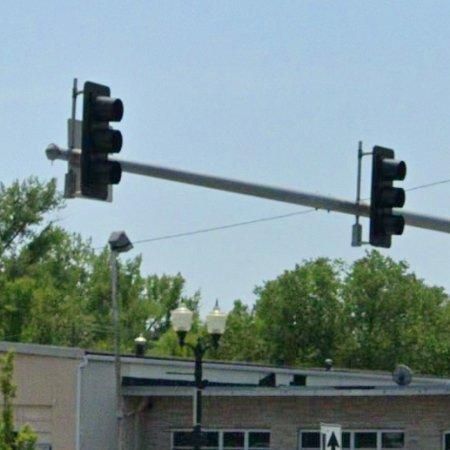traffic lights: (81, 81, 123, 202), (369, 145, 406, 248)
